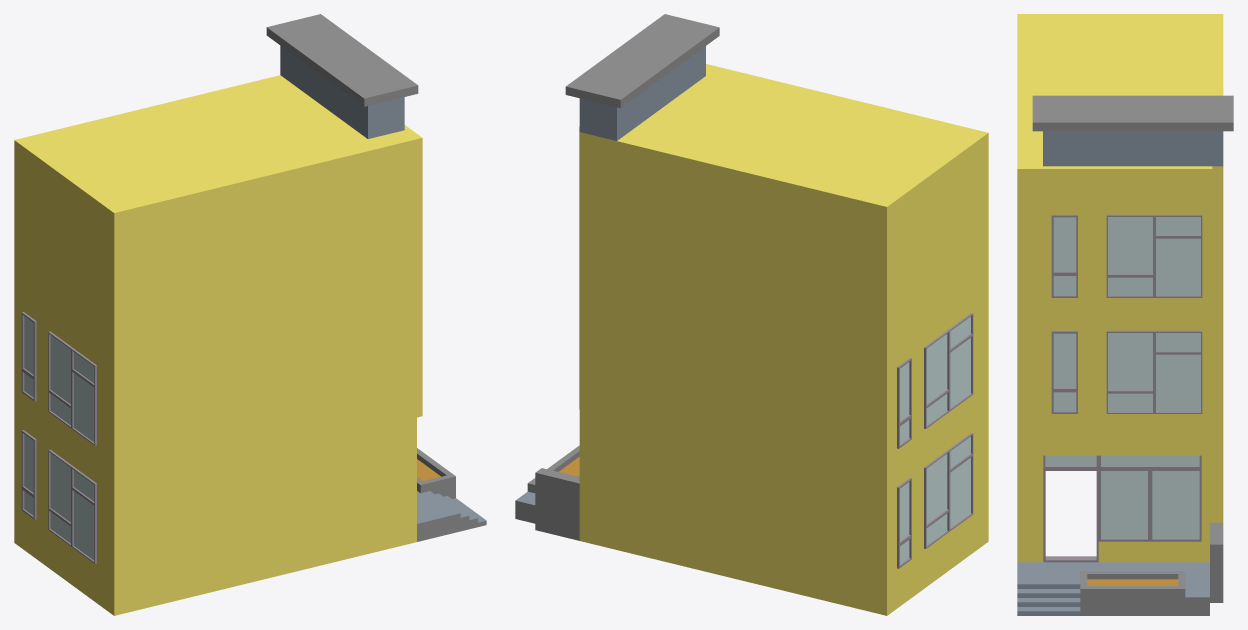
Rendered from Building_E_V2.fbx.
The picture shows the model from 3 angles, left to right: view 1: azimuth 30°, elevation 25°; view 2: azimuth 150°, elevation 25°; view 3: azimuth 270°, elevation 25°; orthographic projection. The views are drawn at different scales.
Parts seen in each view (by area): view 1: Building_E_V2; view 2: Building_E_V2; view 3: Building_E_V2.
Boxes of the visible parts, <box> form: Building_E_V2: <box>14,14,486,615</box>; Building_E_V2: <box>515,14,988,615</box>; Building_E_V2: <box>1017,14,1233,615</box>.
Bounding box in the file's own units: 866 × 992 × 420.
